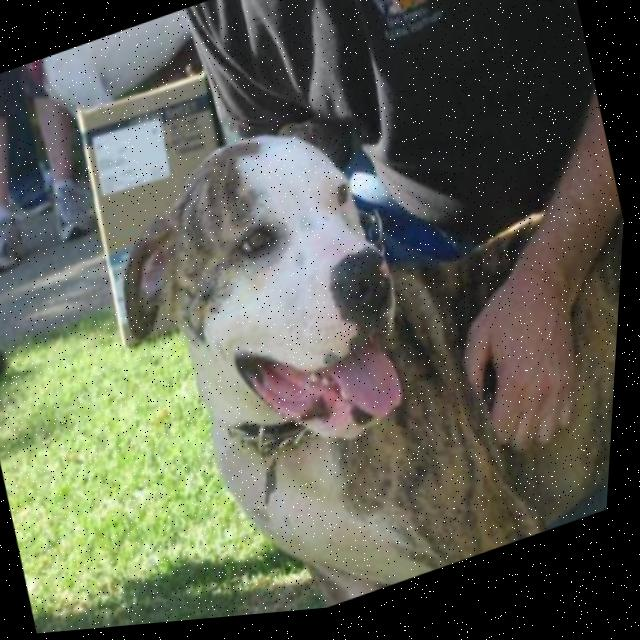dogs: (73, 14, 637, 633)
